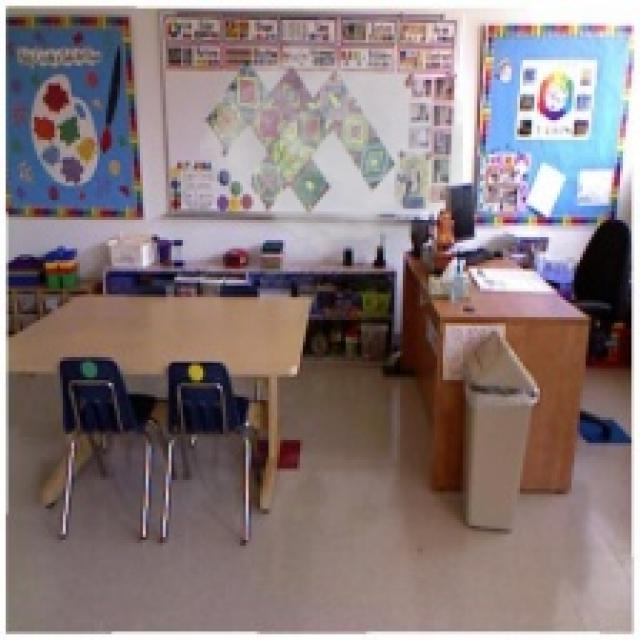smoke: (200, 31, 463, 263)
